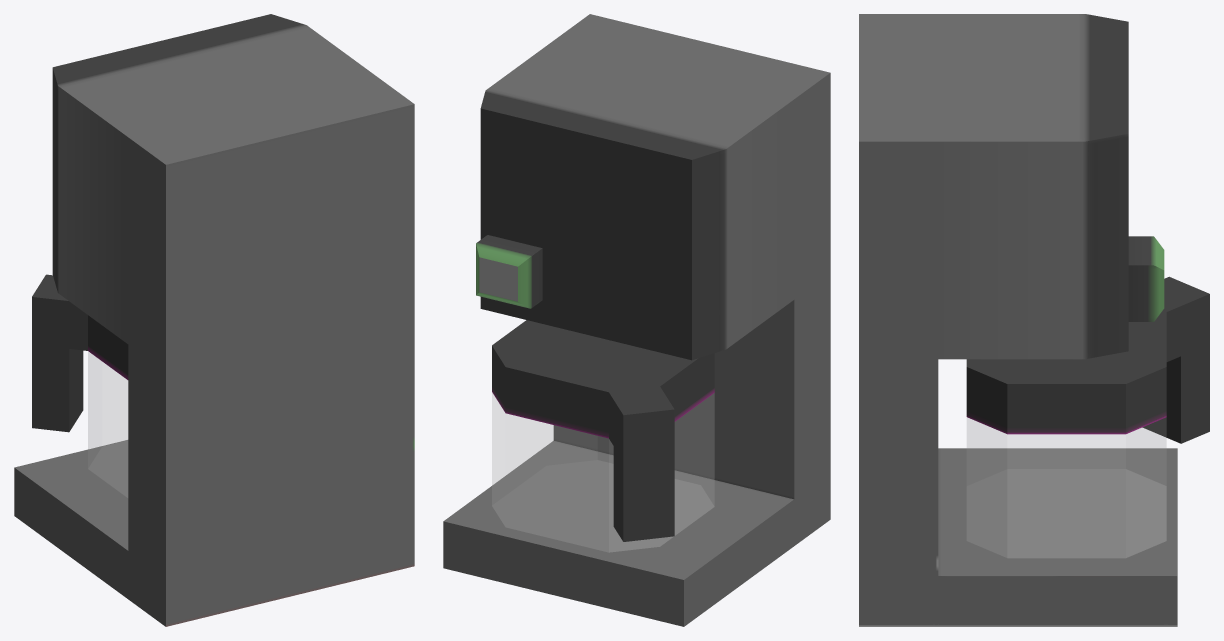
File: Coffe_maker.FBX
3 renders of one model, left to right at view 1: azimuth 30°, elevation 25°; view 2: azimuth 150°, elevation 25°; view 3: azimuth 270°, elevation 25°, orthographic. The views are drawn at different scales.
Visible parts, largest first — view 1: Cafetera; view 2: Cafetera; view 3: Cafetera.
Part boxes in pixels (box(x1,y1,x2,y2)): Cafetera: box(14, 14, 414, 626); Cafetera: box(443, 14, 830, 626); Cafetera: box(859, 14, 1209, 626).
Bounding box in the file's own units: 7.62 × 13.53 × 8.86.
